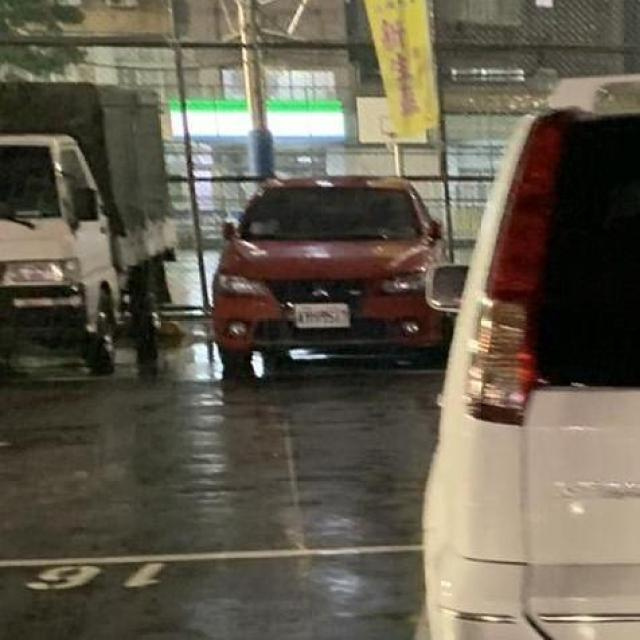W: (293, 299, 352, 332)
